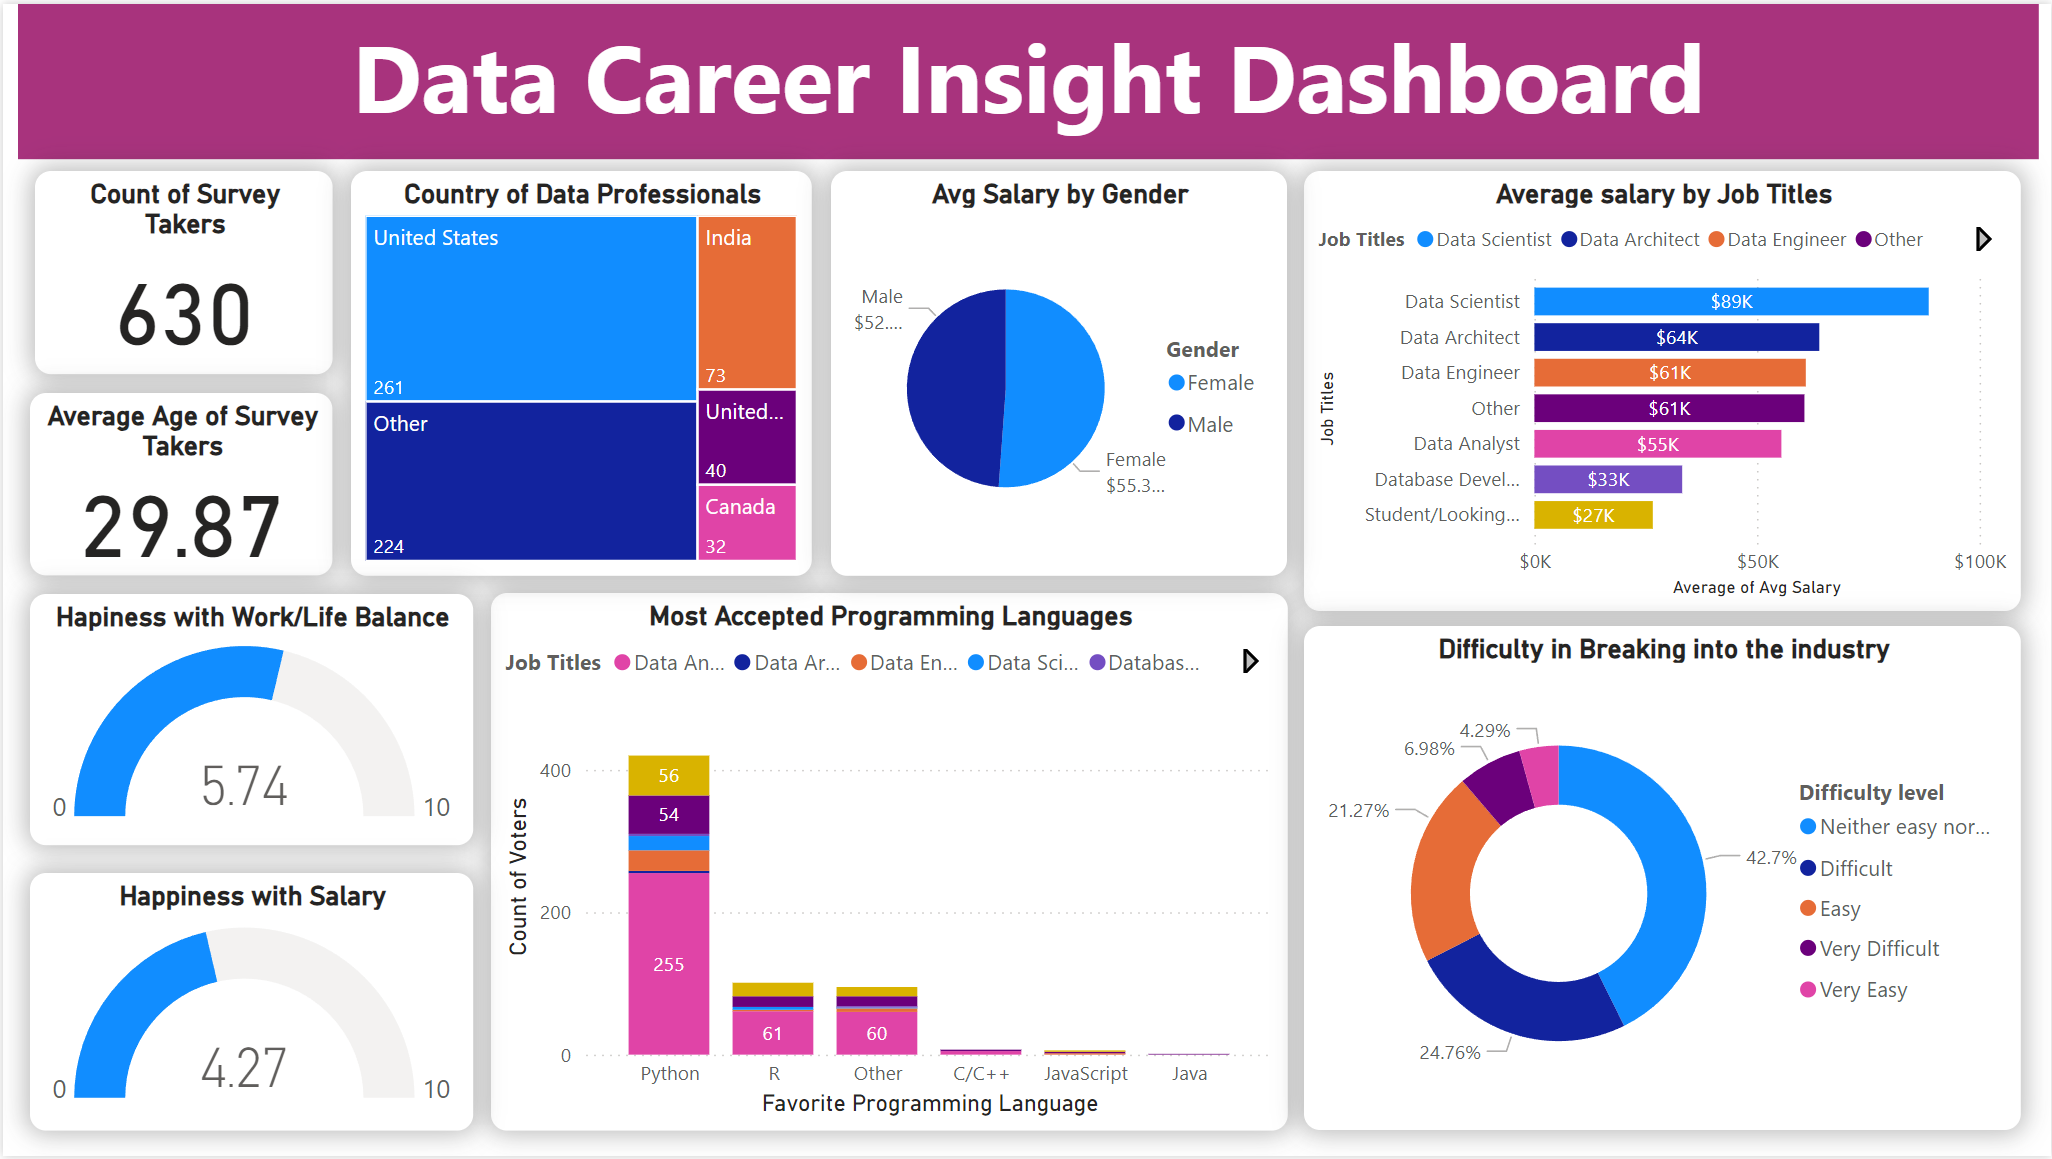

What the dashboard file says about the page in this screenshot:
{"tool":"powerbi","page":{"name":"Page 1","canvas":[1280,720],"ordinal":0},"visuals":[{"type":"textbox","box":[9.3,0,1263.4,96.7],"z":0},{"type":"card","title":"Count of Survey Takers","fields":{"Values":["Count(Data Professional Survey.Unique ID)"]},"box":[20.2,104.6,186,127.2],"z":1000},{"type":"card","title":"Average Age of Survey Takers","fields":{"Values":["Avg(Data Professional Survey.Q10 - Current Age)"]},"box":[17,242.9,189.1,114.4],"z":2000},{"type":"barChart","title":"Average salary by Job Titles","fields":{"Category":["Data Professional Survey.Q1 - Which Title Best Fits your Current Role?.1"],"Series":["Data Professional Survey.Q1 - Which Title Best Fits your Current Role?.1"],"Y":["Avg(Data Professional Survey.Avg Salary)"]},"box":[813.3,104.6,448.2,275],"z":3000},{"type":"columnChart","title":"Most Accepted Programming Languages","fields":{"Category":["Data Professional Survey.Q5 - Favorite Programming Language.1"],"Y":["CountNonNull(Data Professional Survey.Unique ID)"],"Series":["Data Professional Survey.Q1 - Which Title Best Fits your Current Role?.1"]},"box":[304.8,368.3,497.9,335.9],"z":4000},{"type":"treemap","title":"Country of Data Professionals","fields":{"Values":["CountNonNull(Data Professional Survey.Q11 - Which Country do you live in?.1)"],"Group":["Data Professional Survey.Q11 - Which Country do you live in?.1"]},"box":[217.3,104.6,287.7,252.7],"z":5000},{"type":"gauge","title":"Hapiness with Work/Life Balance","fields":{"MinValue":["Min(Data Professional Survey.Q6 - How Happy are you in your Current Position with the following? (Work/Life Balance))"],"MaxValue":["Max(Data Professional Survey.Q6 - How Happy are you in your Current Position with the following? (Work/Life Balance))"],"Y":["Avg(Data Professional Survey.Q6 - How Happy are you in your Current Position with the following? (Work/Life Balance))"]},"box":[17,368.5,276.6,157.4],"z":6000},{"type":"gauge","title":"Happiness with Salary","fields":{"Y":["Avg(Data Professional Survey.Q6 - How Happy are you in your Current Position with the following? (Salary))"],"MinValue":["Min(Data Professional Survey.Q6 - How Happy are you in your Current Position with the following? (Salary))"],"MaxValue":["Max(Data Professional Survey.Q6 - How Happy are you in your Current Position with the following? (Salary))"]},"box":[17,543.3,276.6,160.5],"z":7000},{"type":"donutChart","title":"Difficulty in Breaking into the industry","fields":{"Y":["CountNonNull(Data Professional Survey.Q1 - Which Title Best Fits your Current Role?.1)"],"Category":["Data Professional Survey.Q7 - How difficult was it for you to break into Data?"]},"box":[813.1,389,448.3,315.2],"z":8000},{"type":"pieChart","title":"Avg Salary by Gender","fields":{"Category":["Data Professional Survey.Q9 - Male/Female?"],"Y":["Avg(Data Professional Survey.Avg Salary)"]},"box":[517.7,104.6,284.5,252.7],"z":9000}]}

Visuals, with their boxes in screenshot pixels (x1, y1, x2, y2), scaled from the page's 1280x720 canvas onto the 2052x1159 screenshot:
textbox: {"left": 15, "top": 0, "right": 2040, "bottom": 156}
"Count of Survey Takers" card: {"left": 32, "top": 168, "right": 331, "bottom": 373}
"Average Age of Survey Takers" card: {"left": 27, "top": 391, "right": 330, "bottom": 575}
"Average salary by Job Titles" barChart: {"left": 1304, "top": 168, "right": 2022, "bottom": 611}
"Most Accepted Programming Languages" columnChart: {"left": 489, "top": 593, "right": 1287, "bottom": 1134}
"Country of Data Professionals" treemap: {"left": 348, "top": 168, "right": 810, "bottom": 575}
"Hapiness with Work/Life Balance" gauge: {"left": 27, "top": 593, "right": 471, "bottom": 847}
"Happiness with Salary" gauge: {"left": 27, "top": 875, "right": 471, "bottom": 1133}
"Difficulty in Breaking into the industry" donutChart: {"left": 1304, "top": 626, "right": 2022, "bottom": 1134}
"Avg Salary by Gender" pieChart: {"left": 830, "top": 168, "right": 1286, "bottom": 575}
